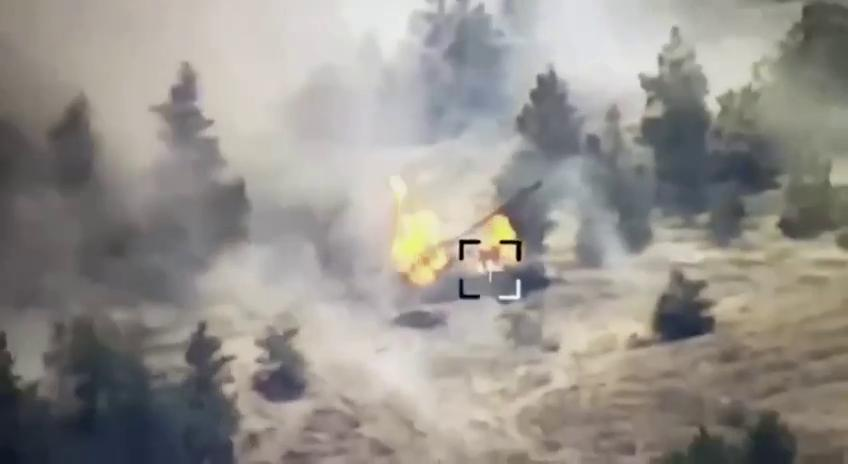tank: (396, 179, 551, 308)
